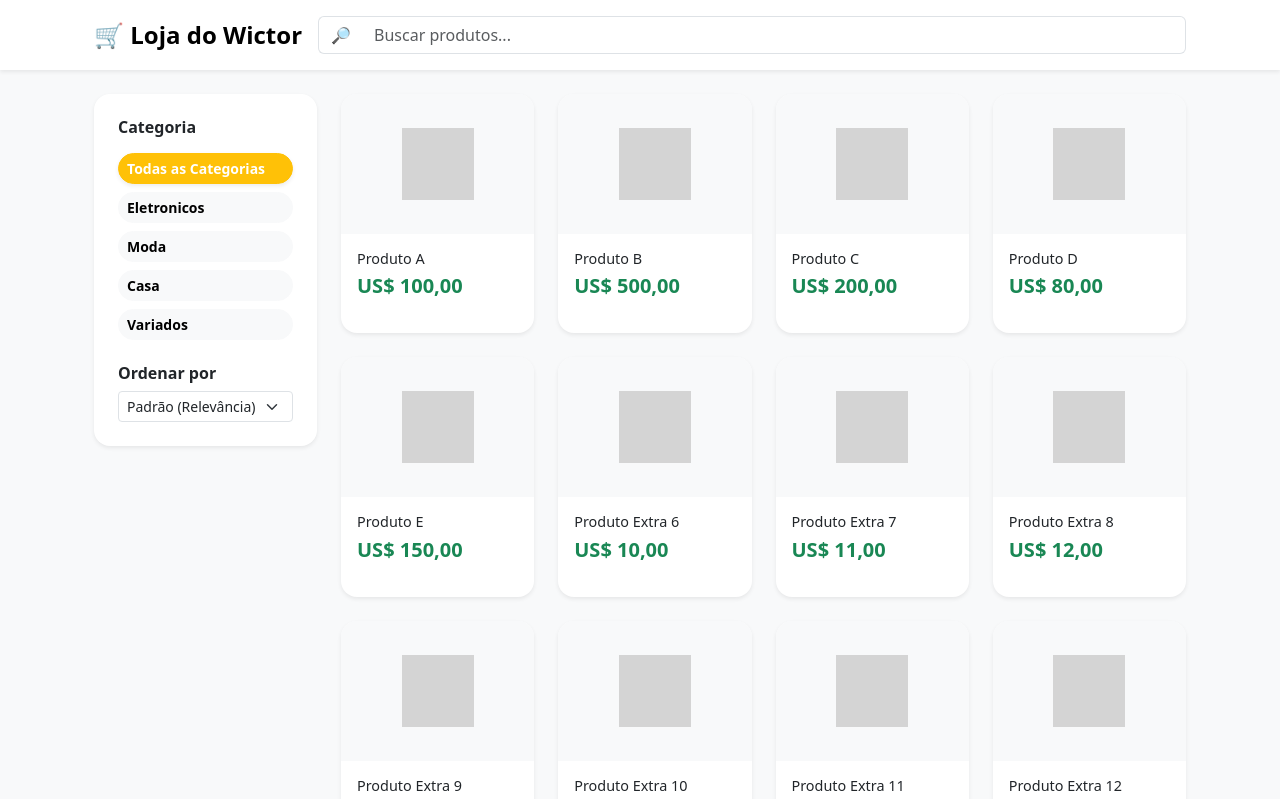
Scenario: App Component (Lógica Principal) › deve filtrar por categoria e redefinir a página para 1
Expected: the text "Produto B" is shown, x1=574 y1=249 x2=642 y2=268
Click the button "moda" at (206, 247), box x1=118 y1=231 x2=293 y2=262
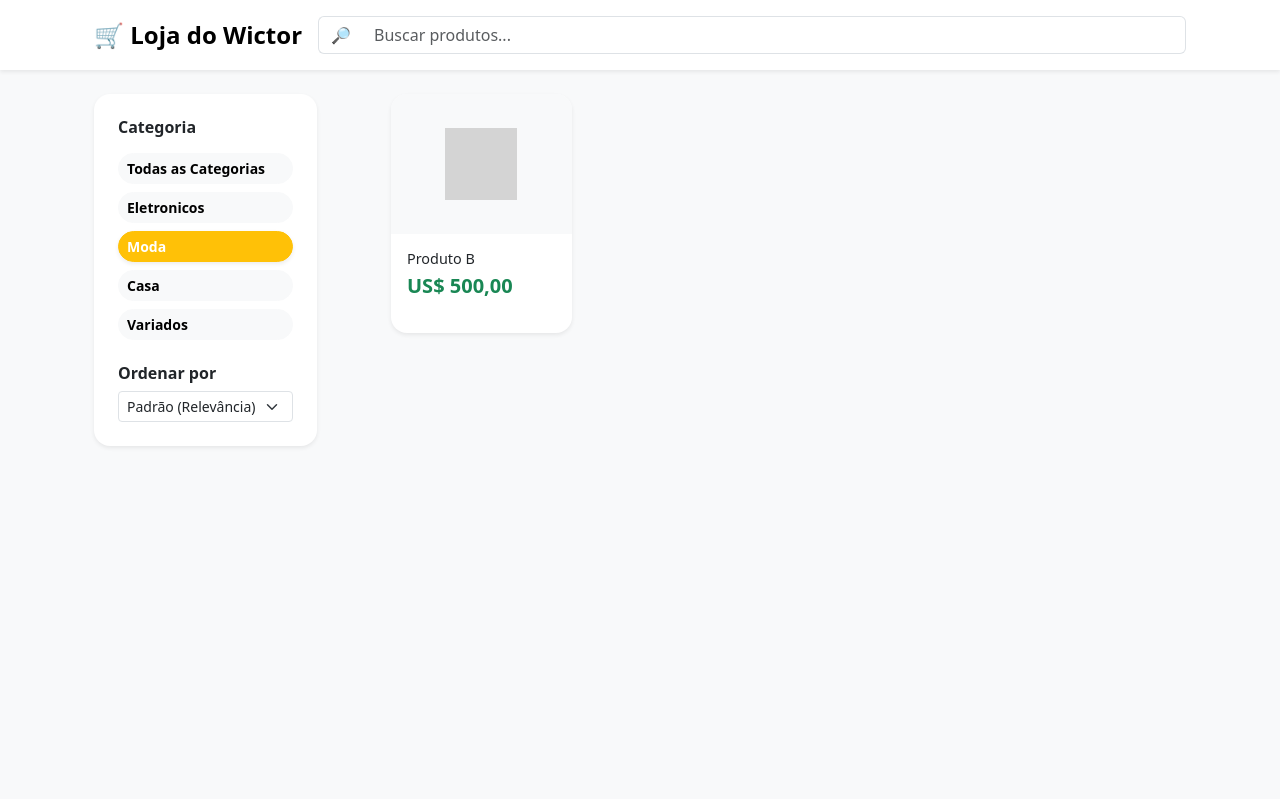
Expected: the text "Produto B" is shown, x1=407 y1=249 x2=475 y2=268
Now the text "Produto A" is gone
